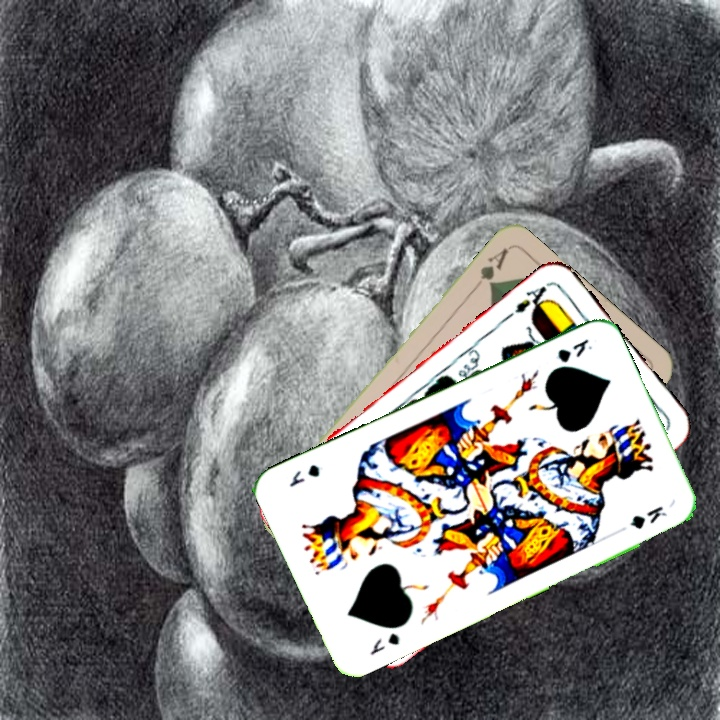EA: (511, 278, 553, 316)
GA: (469, 244, 511, 294)
GK: (551, 334, 595, 366), (366, 628, 402, 658)
